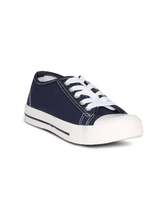shoes: (19, 62, 145, 149)
